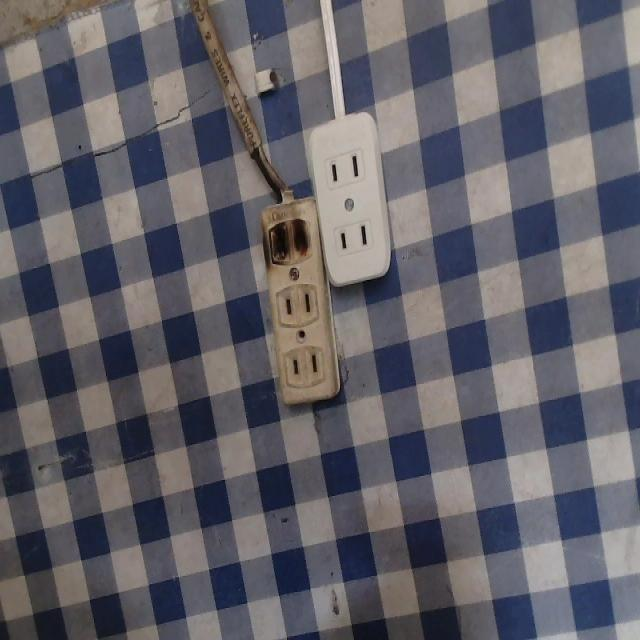-: (253, 213, 318, 272)
